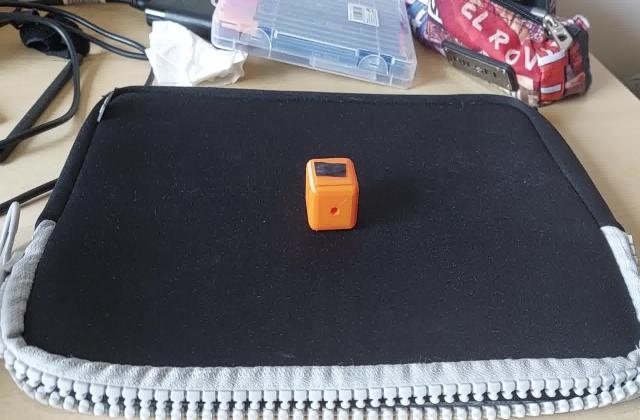black: (310, 158, 350, 181)
cube: (299, 154, 361, 234)
